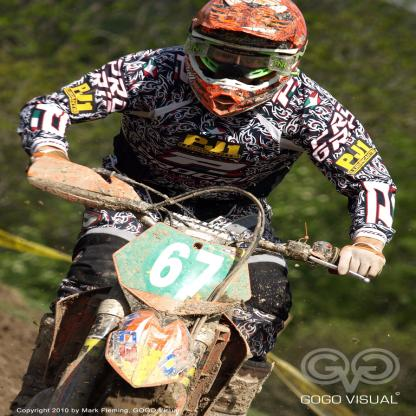Helmet: (178, 5, 316, 111)
